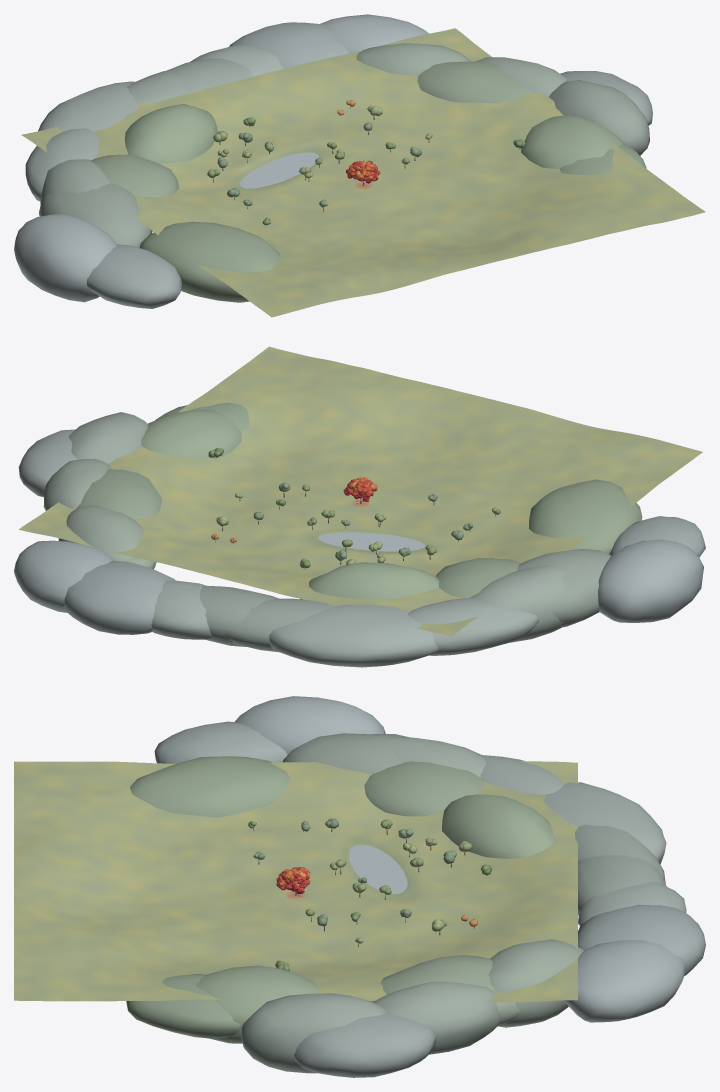
3 renders of one model, top to bottom at view 1: azimuth 30°, elevation 25°; view 2: azimuth 150°, elevation 25°; view 3: azimuth 270°, elevation 25°, orthographic. The views are drawn at different scales.
Parts seen in each view (by area): view 1: Ground, Hills, BgTrees, Lake, Canopy; view 2: Ground, Hills, BgTrees, Lake, Canopy; view 3: Ground, Hills, BgTrees, Lake, Canopy.
Boxes of the visible parts, x1,y1,x2,y2 form: Ground: [21, 28, 705, 317]; Hills: [14, 14, 652, 308]; BgTrees: [207, 100, 525, 226]; Lake: [240, 152, 318, 188]; Canopy: [346, 160, 380, 183]; Ground: [19, 346, 702, 636]; Hills: [14, 402, 705, 667]; BgTrees: [208, 448, 500, 569]; Lake: [318, 532, 425, 551]; Canopy: [343, 477, 377, 501]; Ground: [14, 761, 577, 1002]; Hills: [126, 696, 705, 1077]; BgTrees: [248, 818, 492, 971]; Lake: [349, 844, 407, 894]; Canopy: [276, 867, 310, 894].
Size of the model in its own units: 324 by 31.75 by 270.
